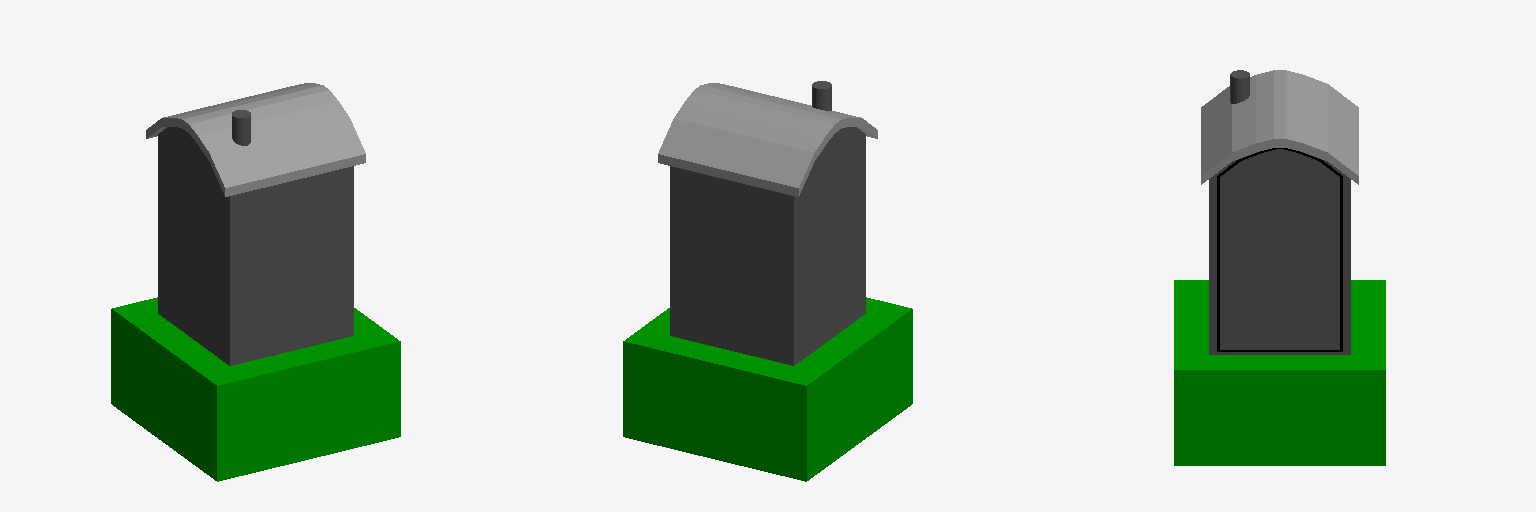
File: PortaJ.obj
3 views of the same model, side by side, from view 1: azimuth 30°, elevation 25°; view 2: azimuth 150°, elevation 25°; view 3: azimuth 270°, elevation 25° (orthographic).
Visible parts, largest first — view 1: Cube; view 2: Cube; view 3: Cube.
Part boxes in pixels (bbox=[...]): Cube: bbox=[111, 83, 400, 481]; Cube: bbox=[623, 81, 912, 481]; Cube: bbox=[1174, 70, 1385, 465].
Bounding box in the file's own units: 4 × 6.88 × 4.